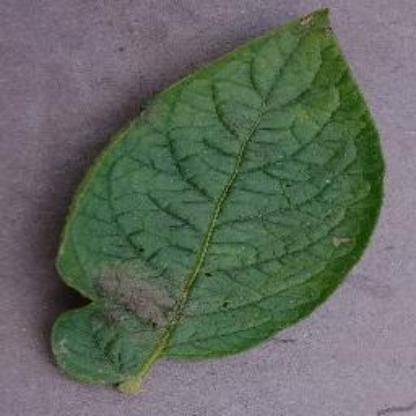Late-Blight: (13, 6, 406, 406)
